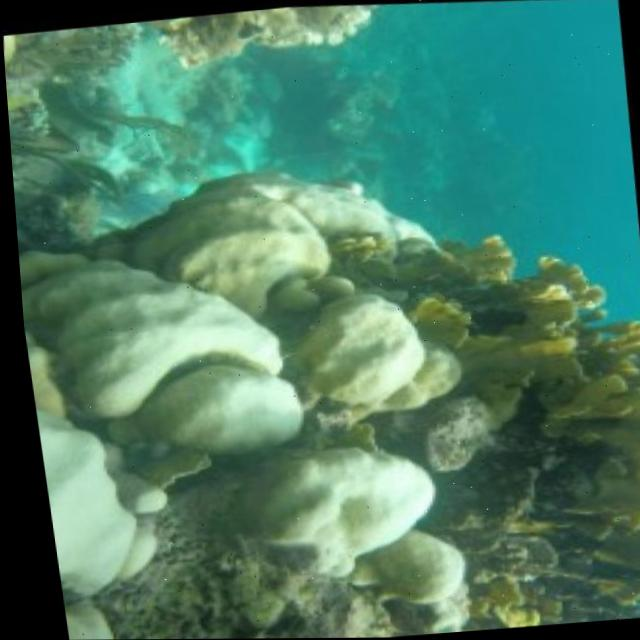Bleached Coral: (13, 216, 541, 640)
